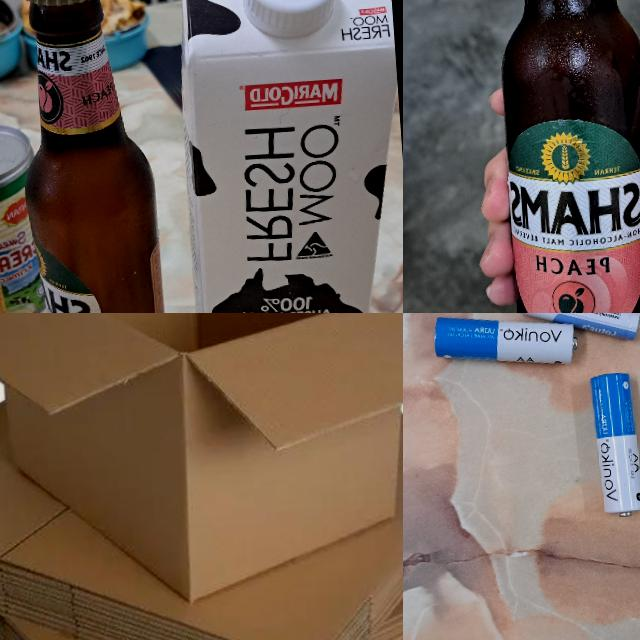bateria: (432, 313, 578, 373), (589, 370, 640, 518), (515, 313, 640, 348)
caixinha: (169, 0, 403, 313)
garrafa de vidro: (480, 0, 640, 313), (11, 0, 170, 313)
lata: (0, 122, 43, 313)
papelão: (0, 313, 403, 624), (0, 361, 403, 640)
tampa plástica: (241, 0, 339, 38)
